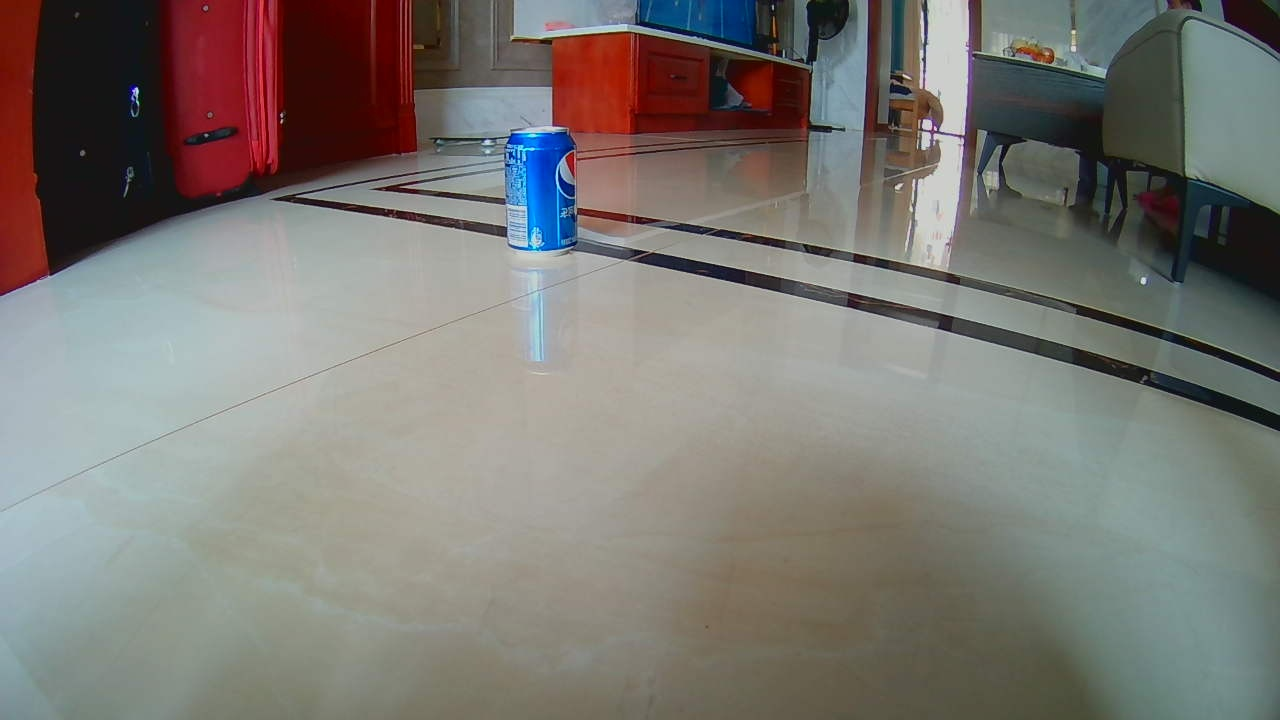pessi: (503, 130, 580, 251)
